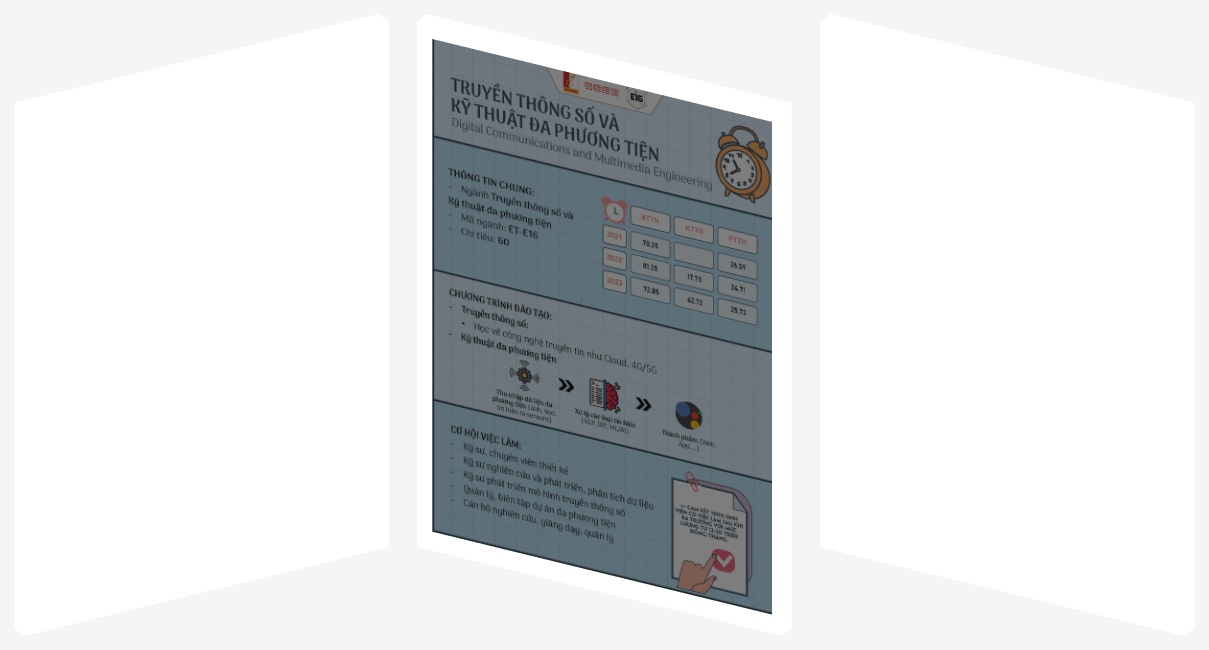
Rendered from info2.fbx.
3 renders of one model, left to right at view 1: azimuth 30°, elevation 25°; view 2: azimuth 150°, elevation 25°; view 3: azimuth 330°, elevation 25°, orthographic.
Visible parts, largest first — view 1: Plane.001; view 2: Plane.001; view 3: Plane.001.
Part boxes in pixels (<box>): Plane.001: <box>14,14,388,635</box>; Plane.001: <box>417,14,791,635</box>; Plane.001: <box>820,14,1194,635</box>.
Bounding box in the file's own units: 361 × 497 × 17.37.
